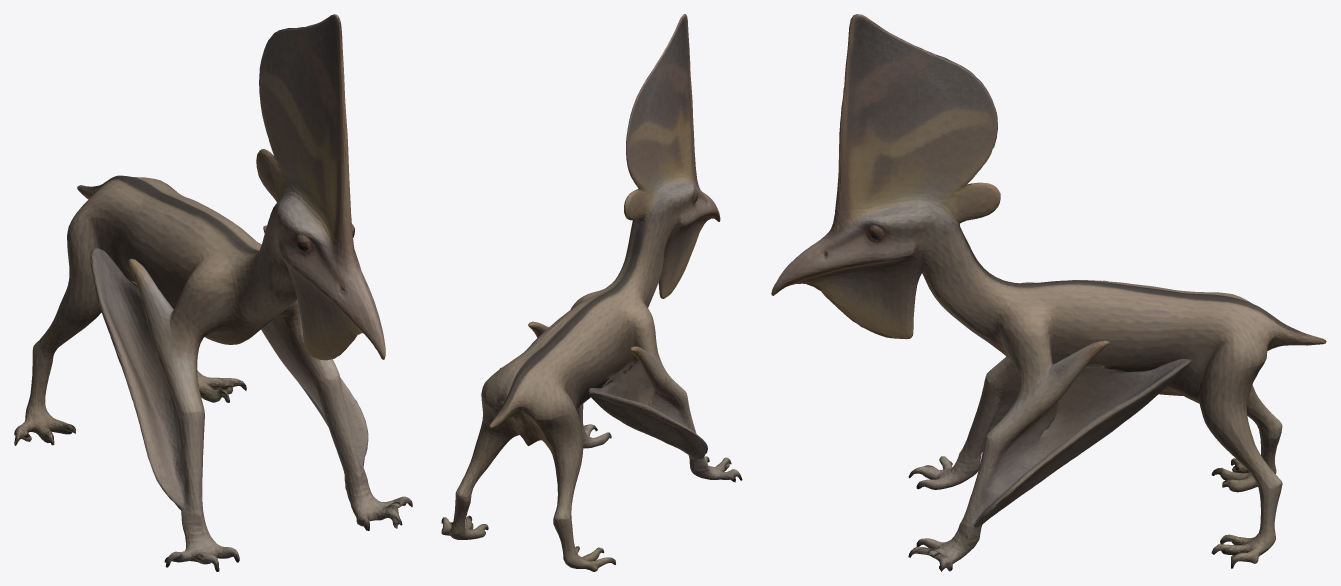
3 views of the same model, side by side, from view 1: azimuth 30°, elevation 25°; view 2: azimuth 150°, elevation 25°; view 3: azimuth 270°, elevation 25° (orthographic). The views are drawn at different scales.
Visible parts, largest first — view 1: world; view 2: world; view 3: world.
Boxes of the visible parts, bbox=[...] form: world: bbox=[14, 14, 412, 571]; world: bbox=[441, 14, 742, 571]; world: bbox=[771, 14, 1326, 571].
Size of the model in its own units: 0.6471 by 1.4 by 1.39.
1 material, 1 textured.
